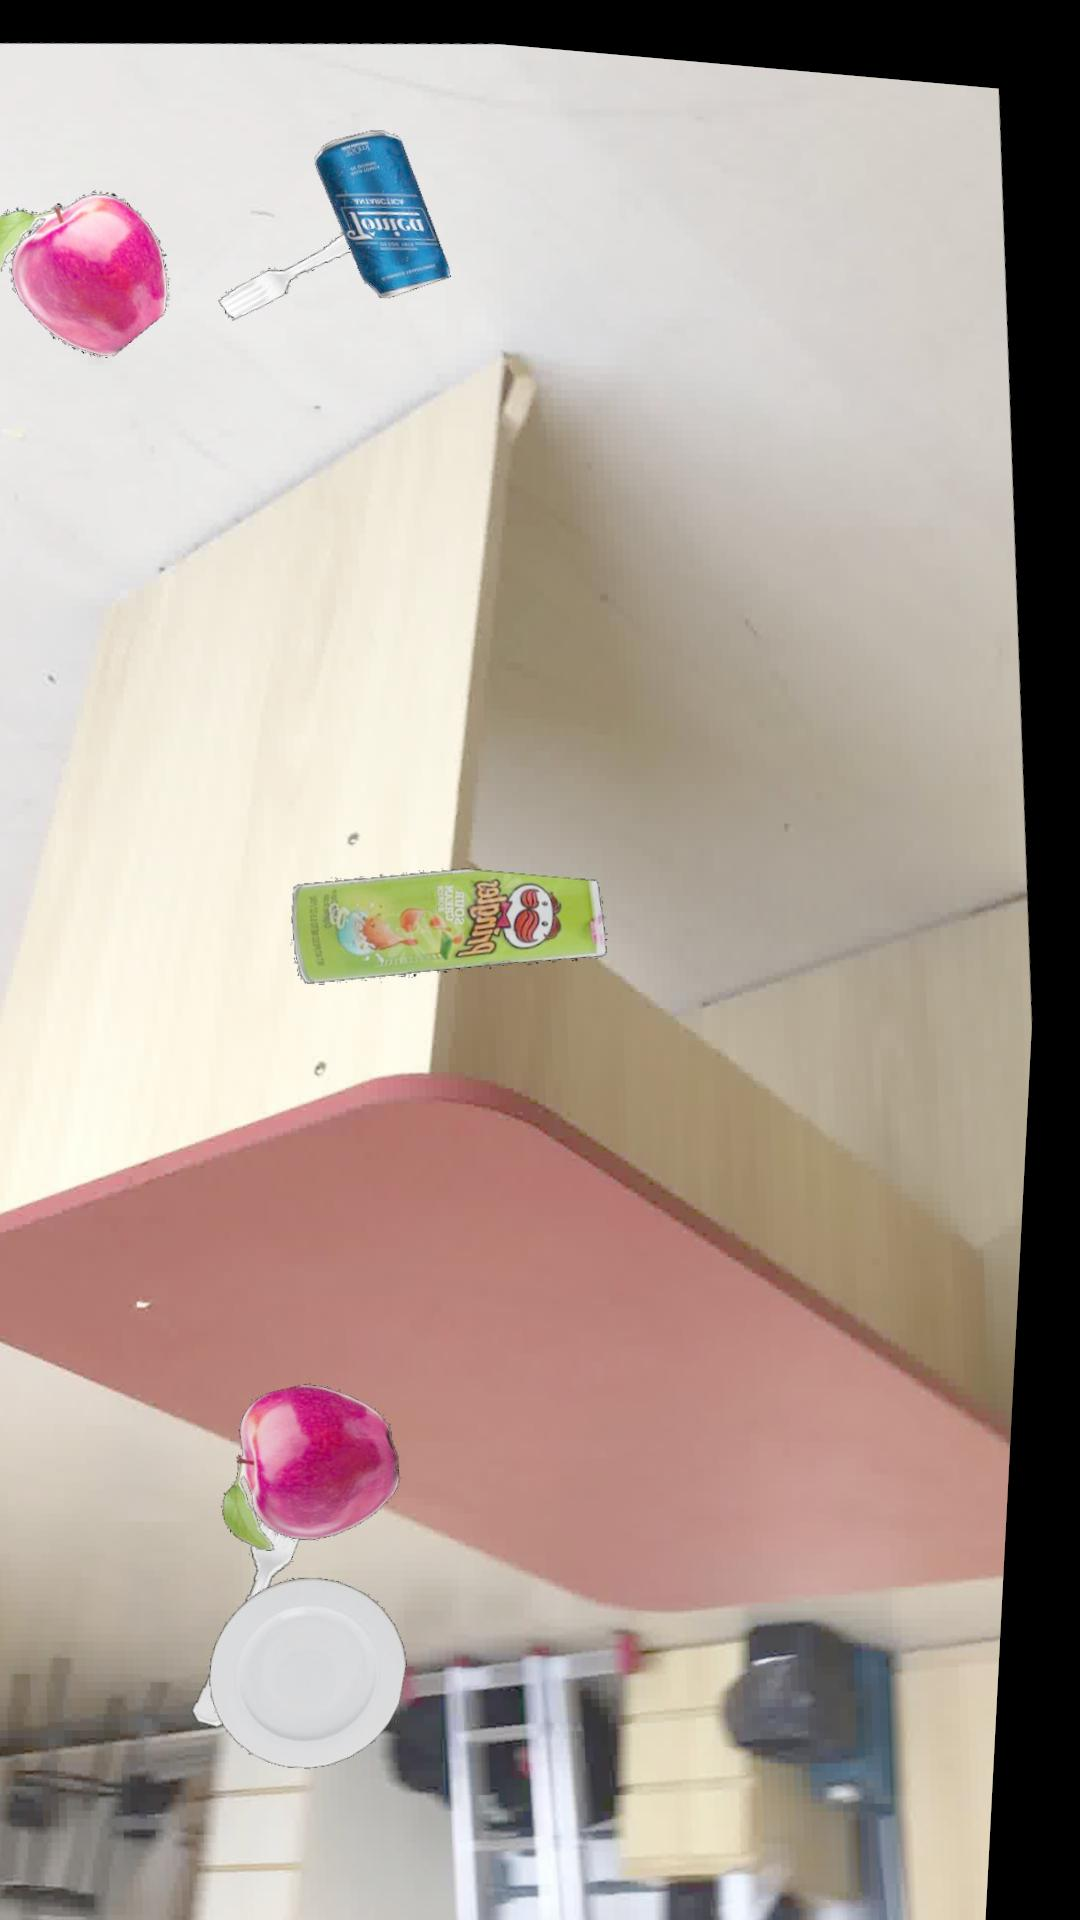apple: (237, 1378, 413, 1545), (0, 194, 169, 356)
fork: (208, 1516, 314, 1724), (220, 228, 352, 316)
plate: (225, 1572, 423, 1763)
pringles: (299, 860, 616, 978)
tonic: (314, 124, 451, 293)
